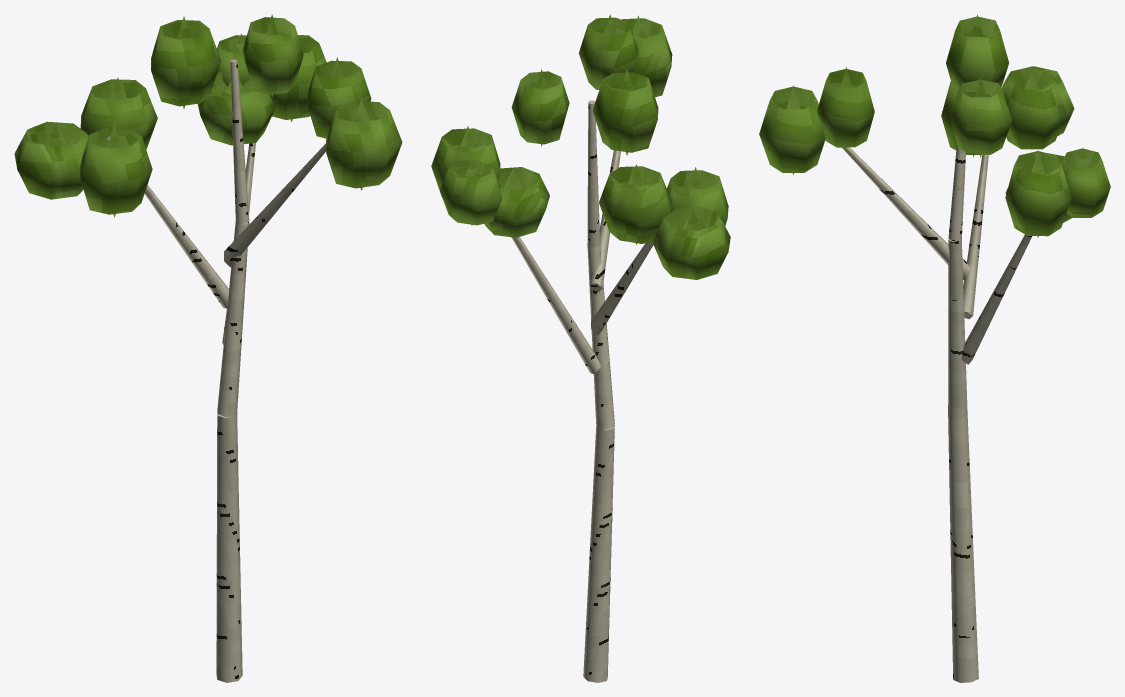
The model's file is birch02-lod1.glb.
3 views of the same model, side by side, from view 1: azimuth 30°, elevation 25°; view 2: azimuth 150°, elevation 25°; view 3: azimuth 270°, elevation 25° (orthographic). The views are drawn at different scales.
Parts seen in each view (by area): view 1: TZ_birch_Batch_01_LOD1, TZ_birch_Batch_00_LOD1; view 2: TZ_birch_Batch_01_LOD1, TZ_birch_Batch_00_LOD1; view 3: TZ_birch_Batch_01_LOD1, TZ_birch_Batch_00_LOD1.
Part boxes in pixels (x1=…): TZ_birch_Batch_01_LOD1: x1=14, y1=14, x2=402, y2=217; TZ_birch_Batch_00_LOD1: x1=107, y1=59, x2=326, y2=682; TZ_birch_Batch_01_LOD1: x1=431, y1=14, x2=730, y2=279; TZ_birch_Batch_00_LOD1: x1=511, y1=100, x2=653, y2=682; TZ_birch_Batch_01_LOD1: x1=759, y1=14, x2=1110, y2=237; TZ_birch_Batch_00_LOD1: x1=842, y1=83, x2=1032, y2=682.
Bounding box in the file's own units: 3.92 × 8.1 × 3.99.
2 materials, 2 textured.
